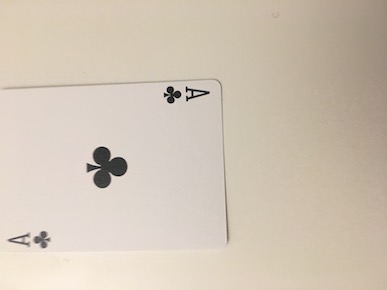AceOfClubs: (1, 77, 235, 254)
